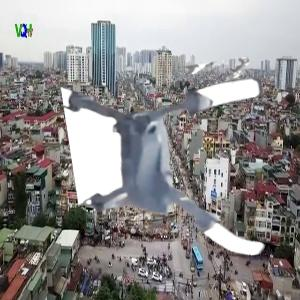drone: (76, 68, 286, 278)
